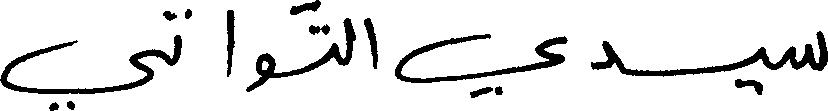X: (394, 29, 565, 102), (0, 35, 154, 110), (791, 26, 827, 75), (247, 48, 274, 96), (592, 36, 615, 74), (363, 13, 376, 73), (225, 5, 234, 81), (756, 42, 766, 99), (344, 13, 353, 70), (172, 8, 180, 70), (329, 22, 337, 66)
